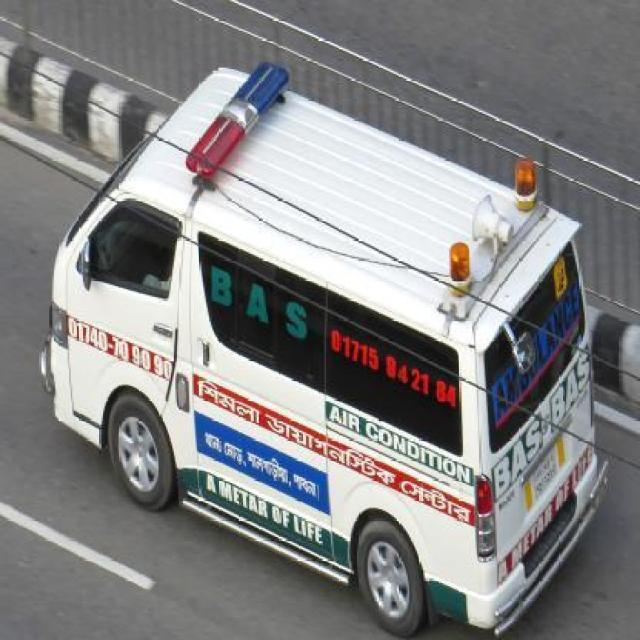emergency: (38, 58, 610, 638)
